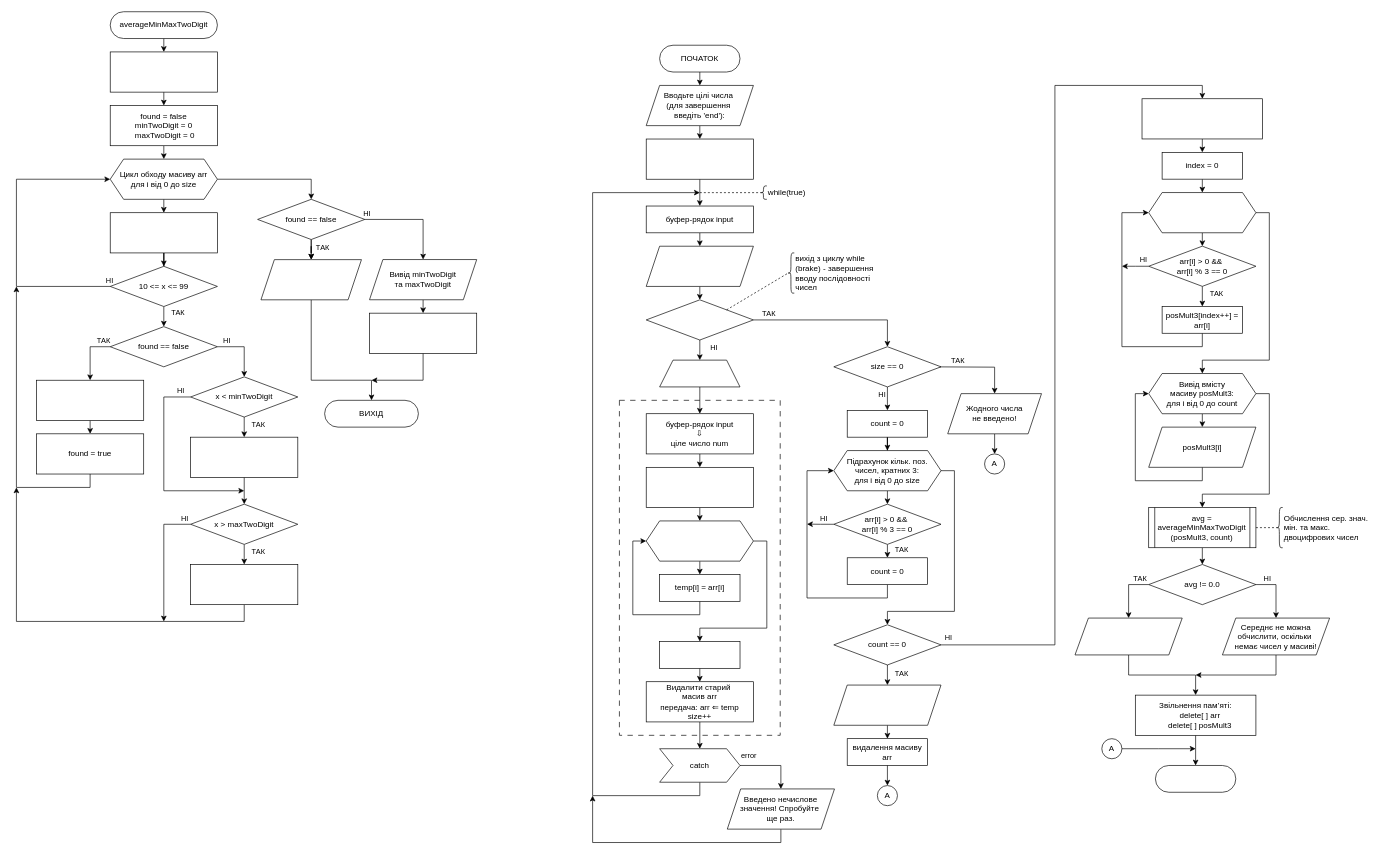
This 1382x860 diagram has some shape labels left out. The centre of each missing label's shape, as x and y in pixels:
input == "end" || input == "END": point 699,319
maxTwoDigit = x: point 244,584
minTwoDigit = x: point 244,457
temp[size] = num: point 699,654
try: point 699,373
x = arr[i]: point 163,232
Введення параметрів: вказівник на масив arr розмір масиву size: point 163,71
Введення поточного числа в input: point 699,266
Вивід отриманого сер. значення: avg: point 1128,636
вказівник arr розмір масиву size: point 699,158
КІНЕЦЬ: point 1195,778
Наповнення масиву posMult3 : для i від 0 до size: point 1202,212
Немає позитивних чисел, кратних 3!: point 887,704
перше двоцифрове: minTwoDigit = x maxTwoDigit = x: point 90,400
повернення значення (minTwoDigit + maxTwoDigit) / 2.0: point 423,332
Розширюємо масив на 1 елемент: int* temp = new int[size + 1]: point 699,487
створення нового масиву з поз. чисел, кратних 3: int* posMult3 = new int[count]: point 1202,118
У масиві немає двоцифрових чисел!: point 310,279
Цикл переносу масиву arr ⇨ temp: для i від 0 до size: point 699,540
